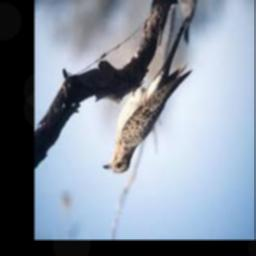Cuckoo: (103, 18, 192, 173)
